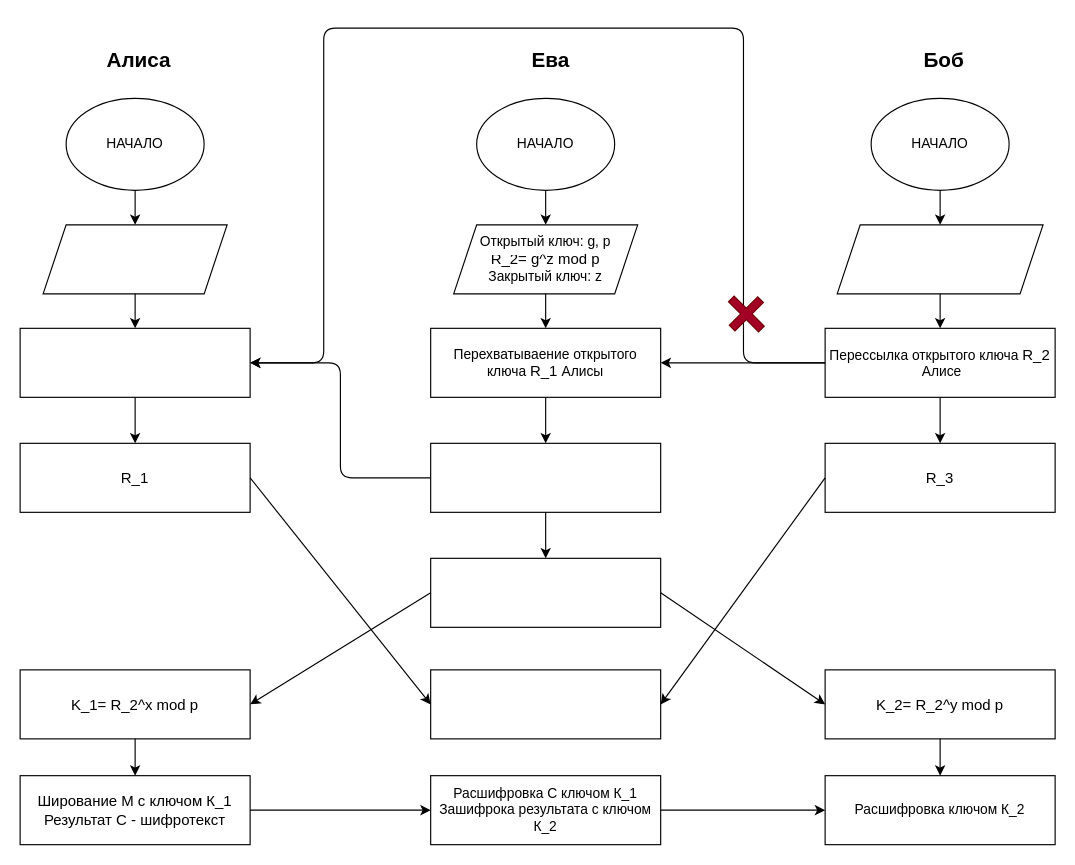
This 1075x865 diagram has some shape labels left out. The shapes that lost their labels are listed below. From the top down, each one's box as (x1, y1, x2, y2) in pixels, then its label:
(42, 224, 227, 294): Открытый ключ: g, p М - сообщение Закрытый ключ: x
(836, 224, 1043, 294): Открытые ключи: g, p R _1 = g ^x mod p R _3 = g ^y mod p Закрытый ключ: x, y
(19, 327, 250, 397): Получение открытого ключа
(430, 442, 661, 512): Отправка R _2 Алисе
(430, 557, 661, 627): R _2
(430, 669, 661, 739): K_1 = R_1 ^z mod p K_2 = R _3 ^z mod p
